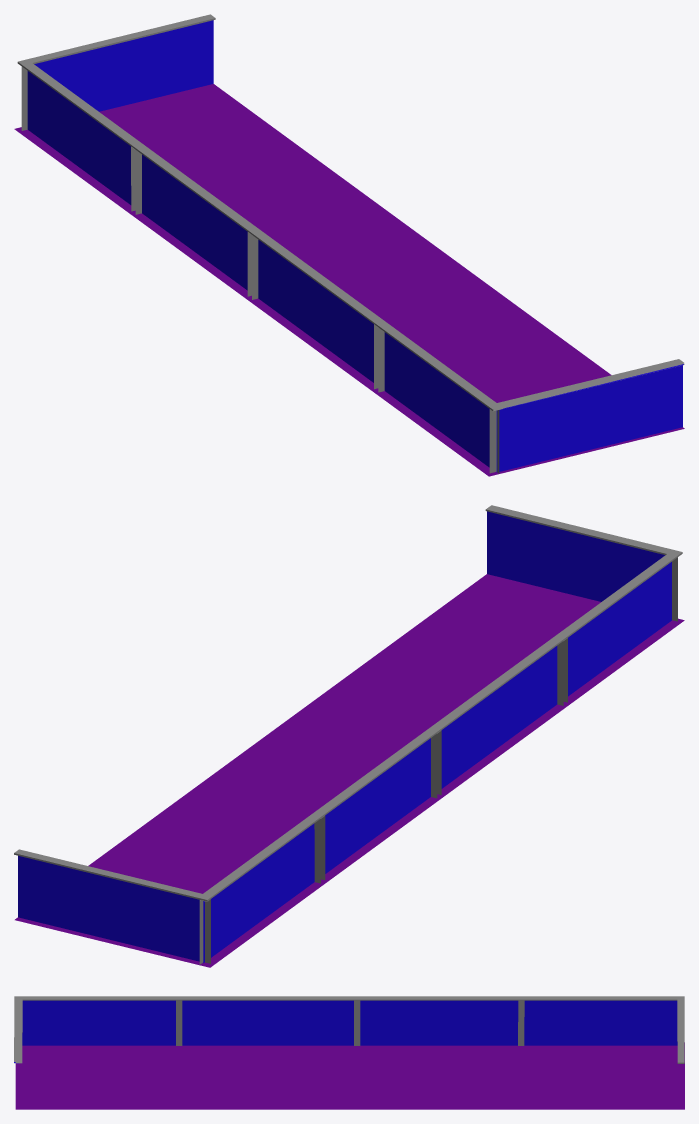
The model's file is Balcony_01.fbx.
3 views of the same model, one above another, from view 1: azimuth 30°, elevation 25°; view 2: azimuth 150°, elevation 25°; view 3: azimuth 270°, elevation 25° (orthographic). The views are drawn at different scales.
Visible parts, largest first — view 1: Balcony_Floor, Balcony_Glass; view 2: Balcony_Floor, Balcony_Glass; view 3: Balcony_Floor, Balcony_Glass.
Boxes of the visible parts, x1=… form: Balcony_Floor: x1=14, y1=14, x2=684, y2=476; Balcony_Glass: x1=27, y1=20, x2=683, y2=472; Balcony_Floor: x1=14, y1=505, x2=684, y2=967; Balcony_Glass: x1=18, y1=511, x2=671, y2=963; Balcony_Floor: x1=14, y1=996, x2=684, y2=1109; Balcony_Glass: x1=14, y1=1000, x2=677, y2=1063.
Bounding box in the file's own units: 316 × 103 × 1327.
